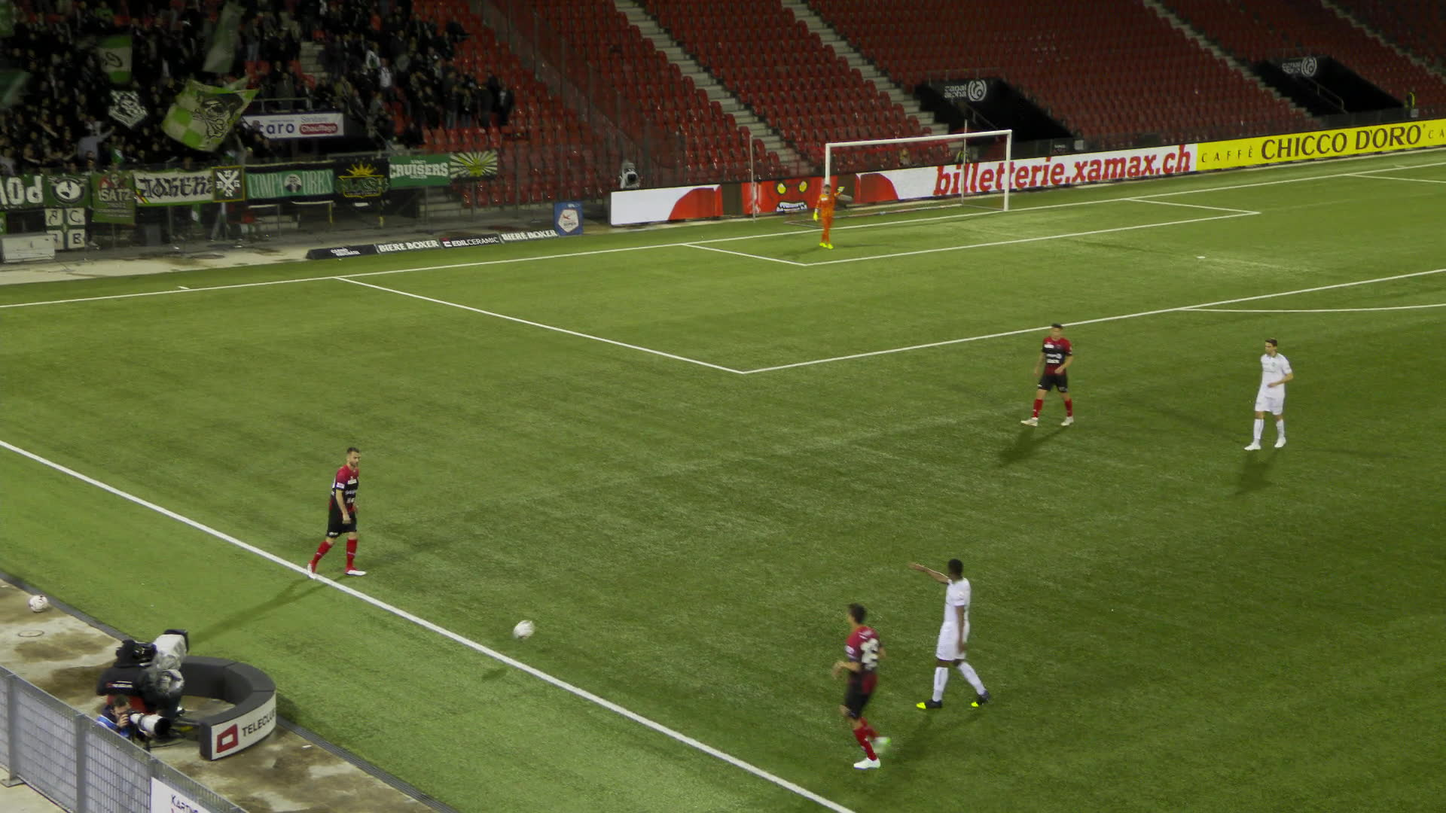ball: (511, 612, 530, 631)
player: (831, 601, 905, 767), (909, 559, 984, 709), (312, 447, 368, 579), (1241, 337, 1292, 450), (1021, 323, 1074, 426), (813, 181, 843, 249)
